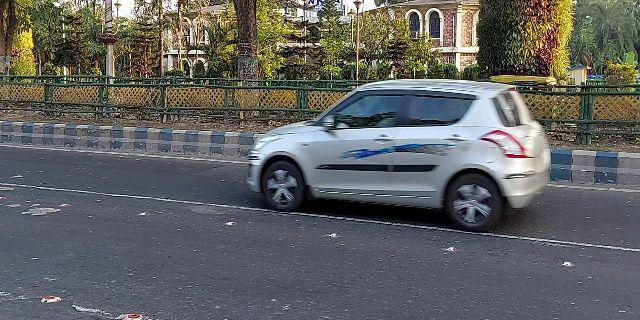Car: (246, 75, 552, 233)
